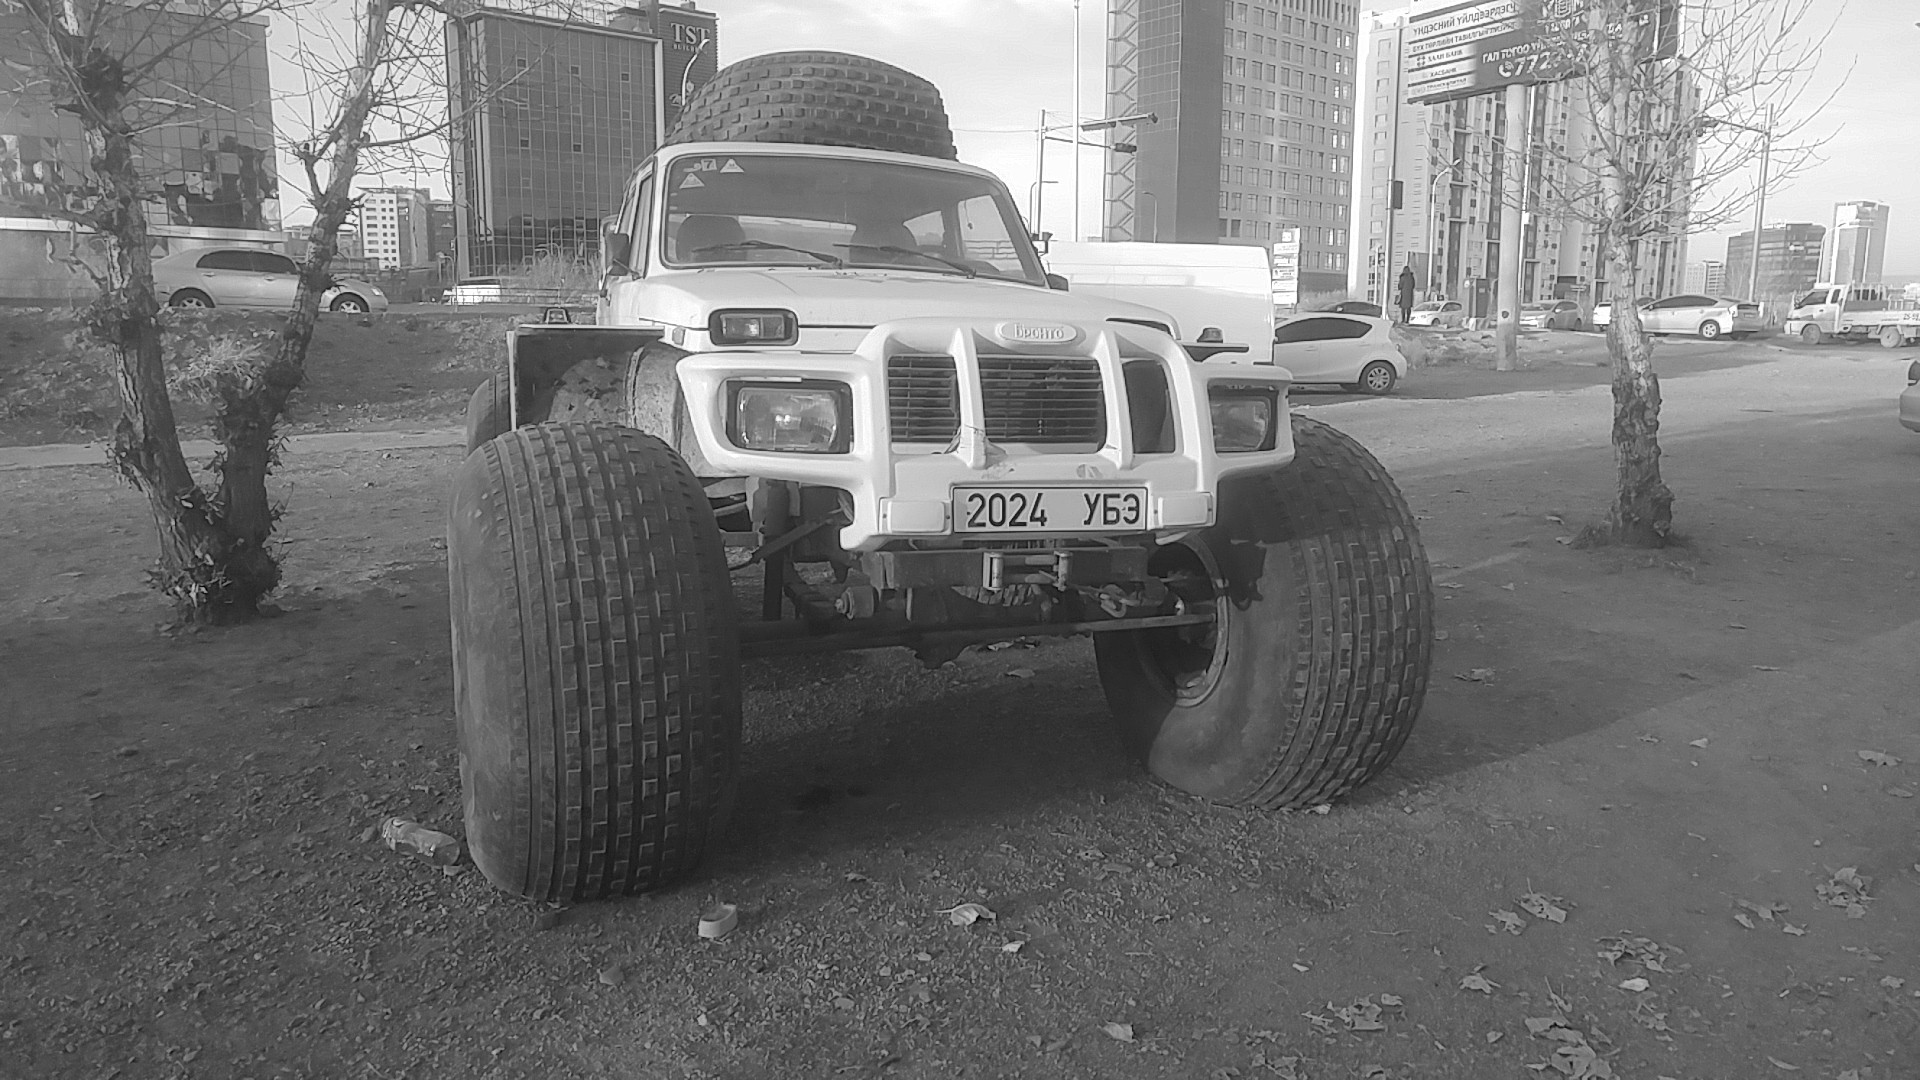0: (988, 492, 1007, 528)
2: (1008, 492, 1029, 528), (967, 493, 987, 527)
4: (1030, 492, 1049, 527)
b: (1102, 493, 1122, 526)
e: (1122, 493, 1141, 525)
plate: (949, 474, 1158, 543)
u: (1082, 492, 1101, 527)
